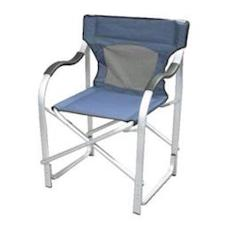chair: (15, 4, 204, 223)
